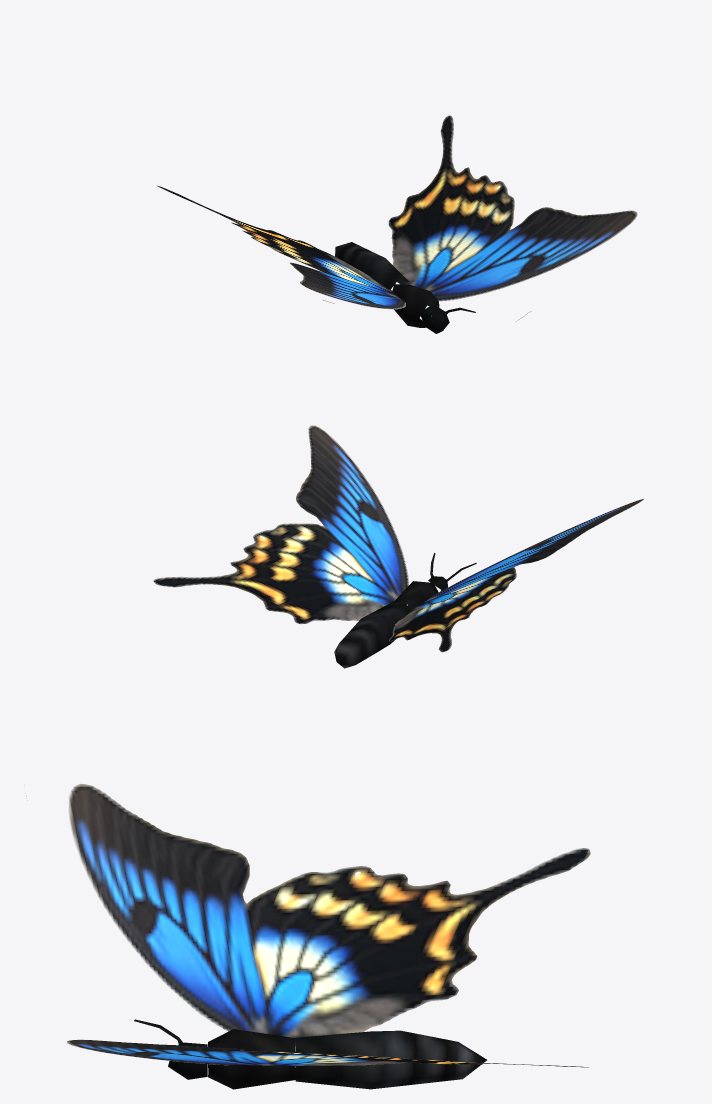
File: Swallowtail.glb
3 views of the same model, one above another, from view 1: azimuth 30°, elevation 25°; view 2: azimuth 150°, elevation 25°; view 3: azimuth 270°, elevation 25° (orthographic). The views are drawn at different scales.
Parts seen in each view (by area): view 1: Swallowtail; view 2: Swallowtail; view 3: Swallowtail.
Part boxes in pixels (left/top/right/bottom): Swallowtail: left=157, top=115, right=637, bottom=333; Swallowtail: left=153, top=425, right=643, bottom=668; Swallowtail: left=67, top=784, right=590, bottom=1089.
Bounding box in the file's own units: 0.4456 × 0.1204 × 0.3546.
1 material, 1 textured.
